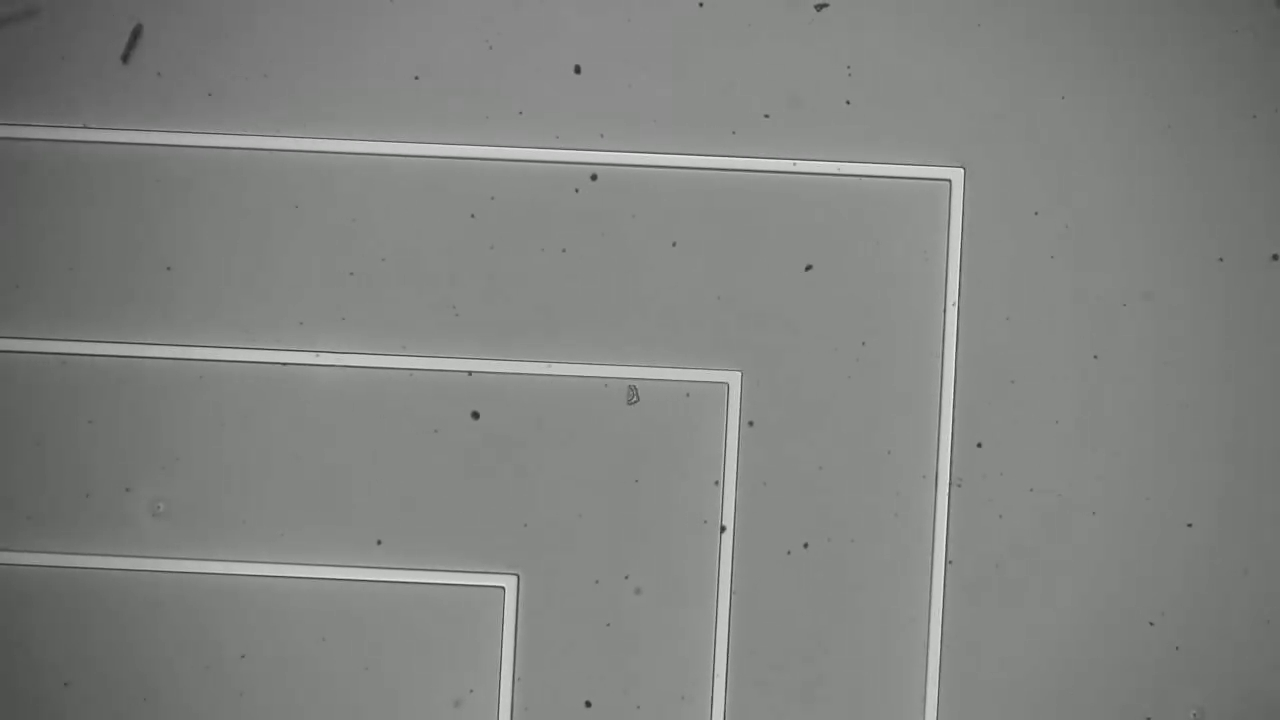stains_enbedded: (717, 518, 736, 540)
